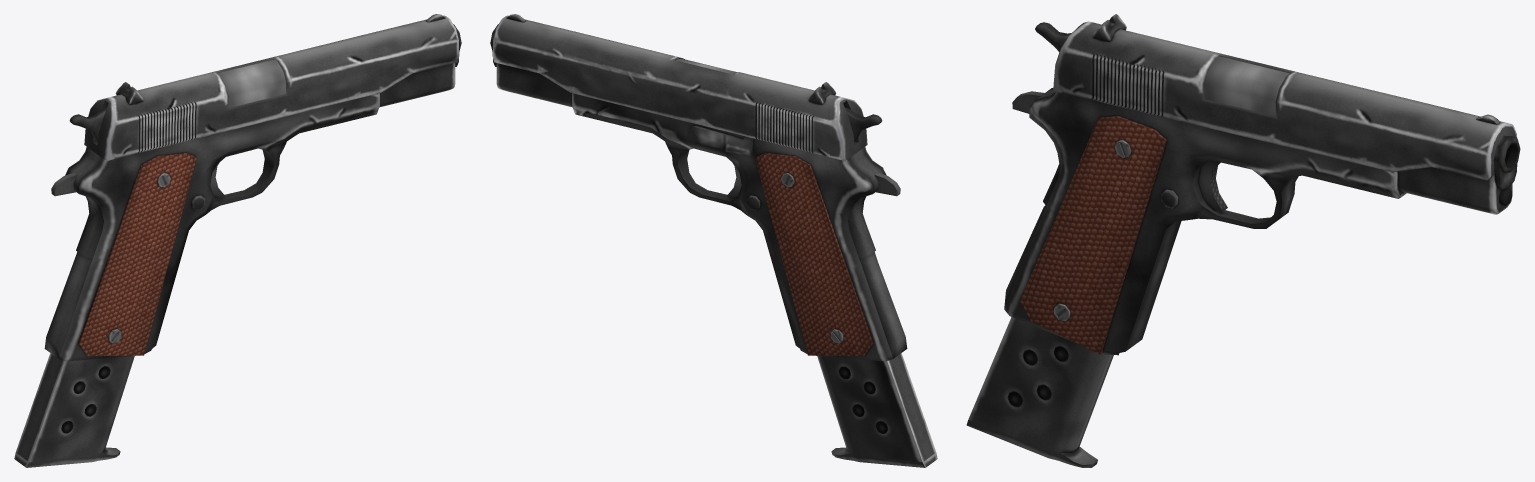
Rendered from pistol2_000031.obj.
3 renders of one model, left to right at view 1: azimuth 30°, elevation 25°; view 2: azimuth 150°, elevation 25°; view 3: azimuth 330°, elevation 25°, orthographic. The views are drawn at different scales.
Visible parts, largest first — view 1: M1911_Body_Cube.000, M1911_Slider_Cube.002, M1911_Magazine_Cube.003, M1911_Hammer_Cube.005; view 2: M1911_Body_Cube.000, M1911_Slider_Cube.002, M1911_Magazine_Cube.003, M1911_Hammer_Cube.005; view 3: M1911_Body_Cube.000, M1911_Slider_Cube.002, M1911_Magazine_Cube.003, M1911_Trigger_Cube.004.
Part boxes in pixels (x1=…): M1911_Body_Cube.000: x1=44, y1=24, x2=461, y2=361; M1911_Slider_Cube.002: x1=84, y1=14, x2=458, y2=160; M1911_Magazine_Cube.003: x1=14, y1=353, x2=134, y2=467; M1911_Hammer_Cube.005: x1=69, y1=107, x2=106, y2=142; M1911_Body_Cube.000: x1=490, y1=24, x2=907, y2=361; M1911_Slider_Cube.002: x1=493, y1=14, x2=867, y2=160; M1911_Magazine_Cube.003: x1=817, y1=353, x2=937, y2=467; M1911_Hammer_Cube.005: x1=845, y1=107, x2=882, y2=142; M1911_Body_Cube.000: x1=1004, y1=56, x2=1520, y2=355; M1911_Slider_Cube.002: x1=1053, y1=14, x2=1516, y2=180; M1911_Magazine_Cube.003: x1=966, y1=317, x2=1113, y2=467; M1911_Trigger_Cube.004: x1=1198, y1=160, x2=1227, y2=211.
Bounding box in the file's own units: 0.7553 × 0.6061 × 0.0783.
